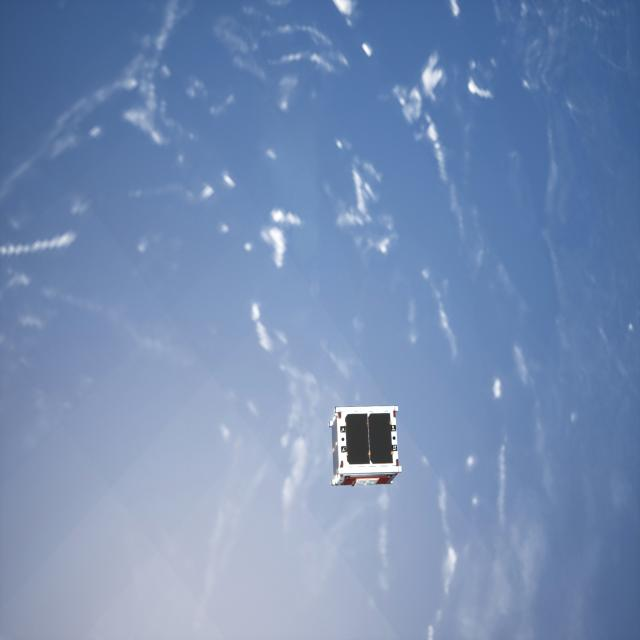satellite: (326, 400, 405, 494)
